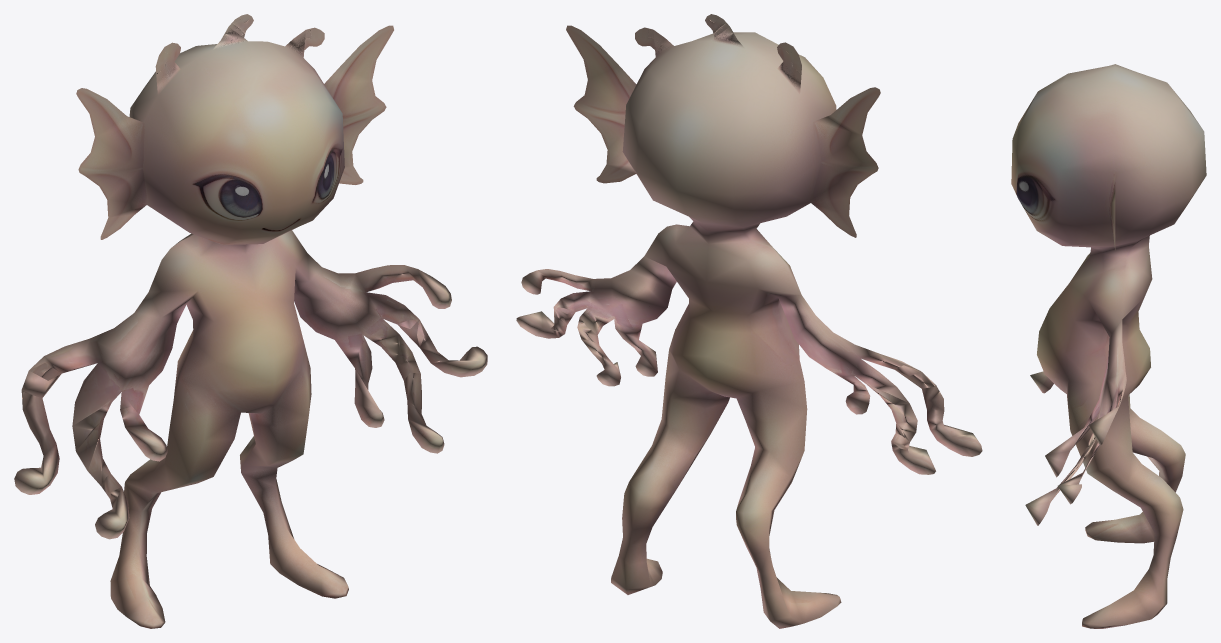
The model's file is Amebita.glb.
3 views of the same model, side by side, from view 1: azimuth 30°, elevation 25°; view 2: azimuth 150°, elevation 25°; view 3: azimuth 270°, elevation 25° (orthographic). The views are drawn at different scales.
Parts seen in each view (by area): view 1: Amebita; view 2: Amebita; view 3: Amebita.
Part boxes in pixels (left/top/right/bottom): Amebita: left=14, top=14, right=487, bottom=628; Amebita: left=516, top=14, right=982, bottom=628; Amebita: left=1011, top=64, right=1206, bottom=628.
Size of the model in its own units: 0.834 by 0.998 by 0.3301.
Materials: 1 (1 with a texture image).
